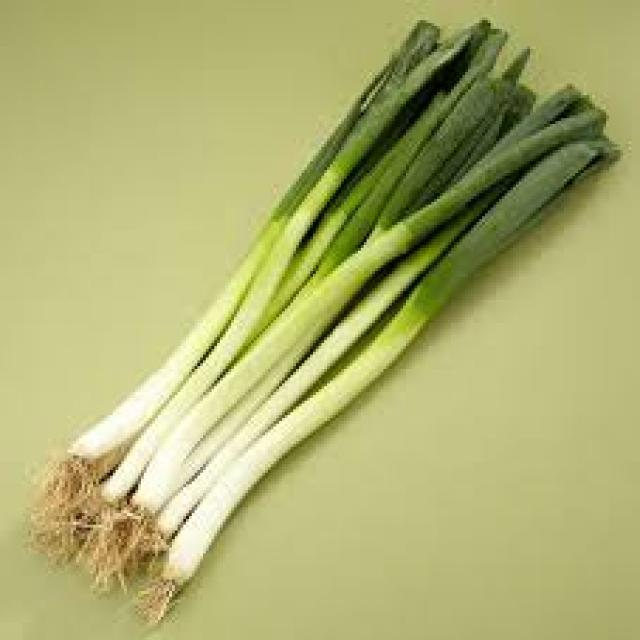spring_onion: (34, 0, 637, 634)
